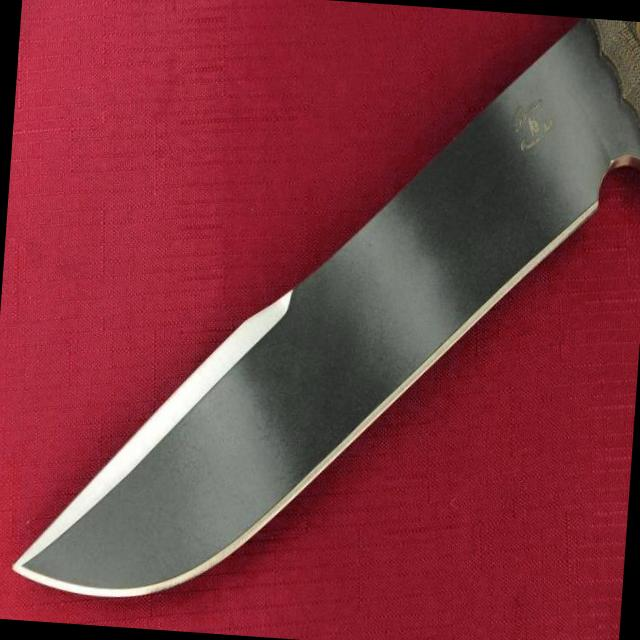Knife: (14, 20, 640, 596)
